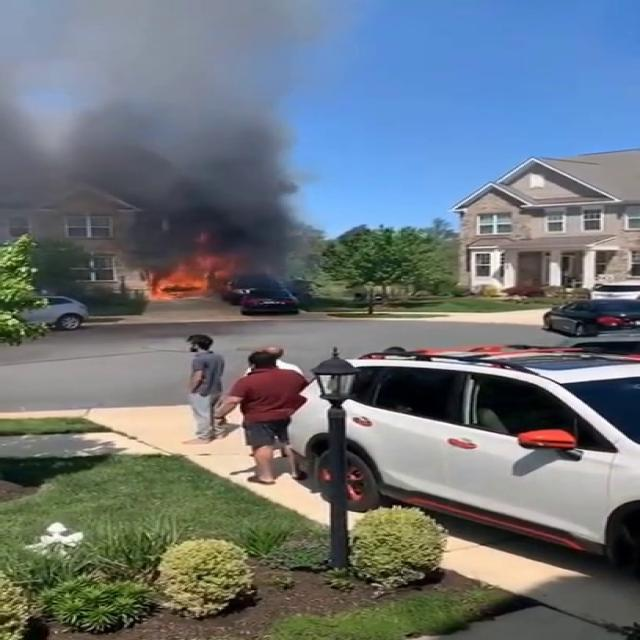Smoke: (0, 0, 348, 292)
